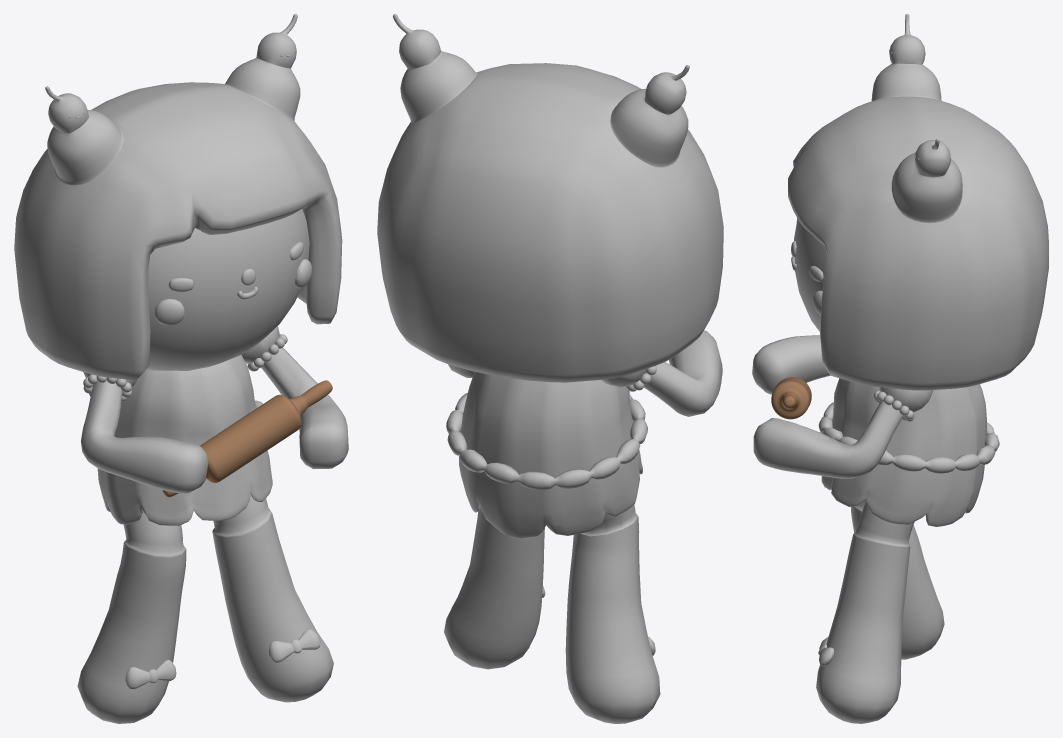
File: cakegorl_collada.gltf
The picture shows the model from 3 angles, left to right: view 1: azimuth 30°, elevation 25°; view 2: azimuth 150°, elevation 25°; view 3: azimuth 270°, elevation 25°; orthographic projection. The views are drawn at different scales.
Parts seen in each view (by area): view 1: head_GEO, body_GEO, weapon_GEO; view 2: head_GEO, body_GEO; view 3: head_GEO, body_GEO, weapon_GEO.
Part boxes in pixels (<box>): head_GEO: <box>14,14,342,380</box>; body_GEO: <box>77,326,348,723</box>; weapon_GEO: <box>162,380,332,497</box>; head_GEO: <box>377,14,723,382</box>; body_GEO: <box>444,330,722,723</box>; head_GEO: <box>788,14,1048,390</box>; body_GEO: <box>752,335,999,723</box>; weapon_GEO: <box>771,377,811,419</box>.
Size of the model in its own units: 84.34 by 181 by 80.25.
